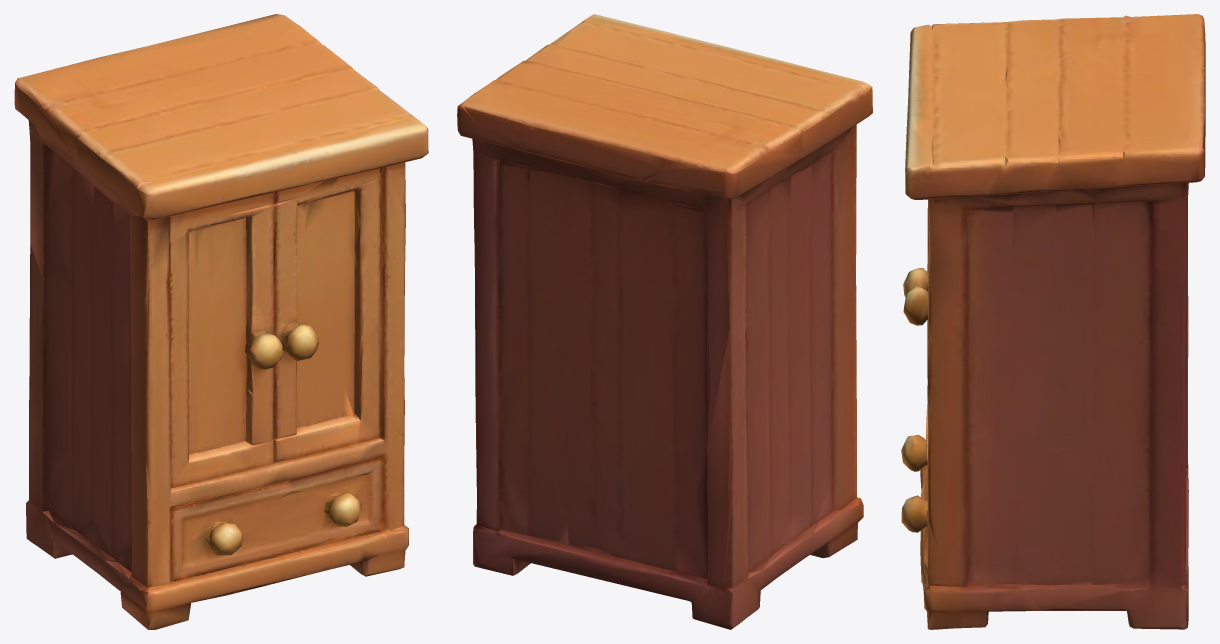
The model's file is cabinet17.glb.
3 views of the same model, side by side, from view 1: azimuth 30°, elevation 25°; view 2: azimuth 150°, elevation 25°; view 3: azimuth 270°, elevation 25° (orthographic). The views are drawn at different scales.
Size of the model in its own units: 0.1923 by 0.3011 by 0.1704.
Materials: 1 (1 with a texture image).
